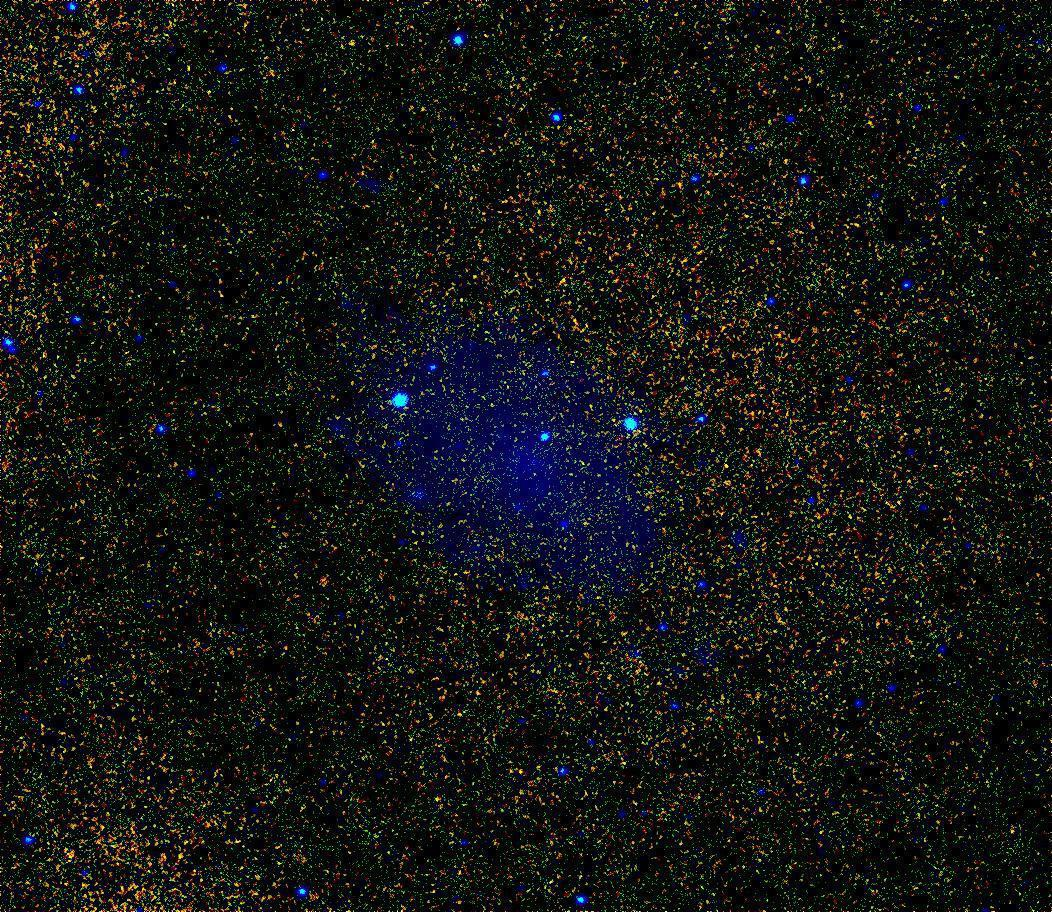star: (996, 819, 1026, 849)
